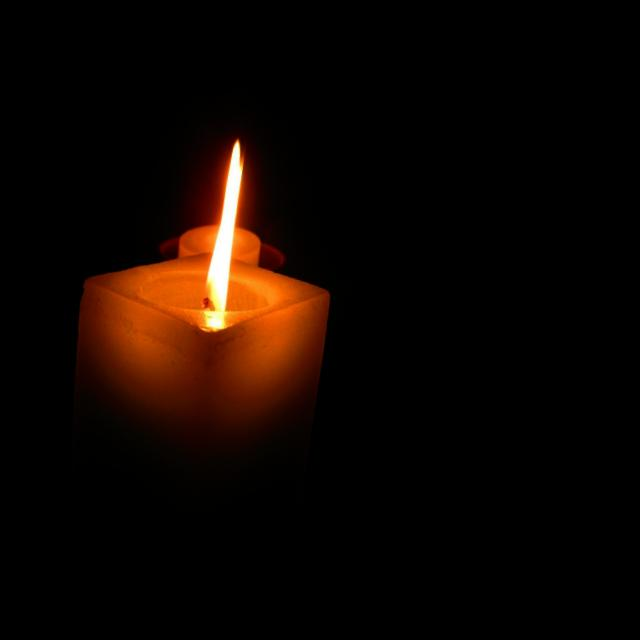Fire_Save: (41, 112, 362, 554)
